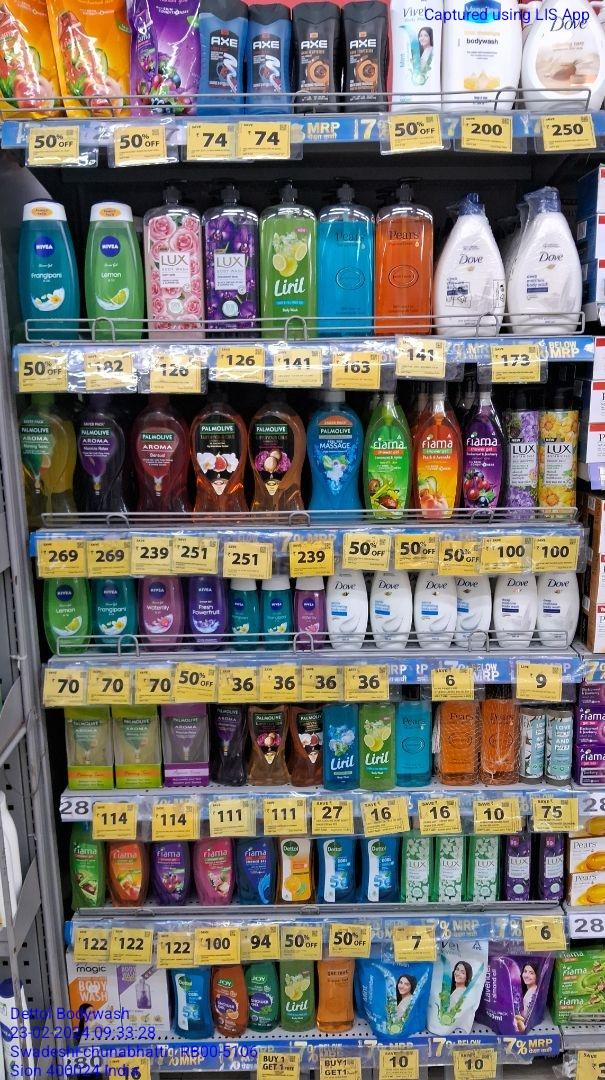Dettol_Bodywash_Cool: (317, 836, 359, 906), (173, 965, 212, 1040), (363, 835, 400, 905)
Dettol_Bodywash_Refresh: (278, 837, 313, 905)
Dove_Deep_Moisture_Body_Wash_250ML: (493, 570, 534, 649), (538, 570, 577, 647)
Dove_Gentle_Exfoliating_Body_Wash_250ML: (415, 568, 452, 650), (371, 572, 409, 650), (326, 573, 363, 651), (454, 576, 489, 649)
Fiama_Shower_Gel_Patchouli_and_Macadamia_250ML: (195, 839, 235, 906)
Fiama_Shower_Gel_Peach_and_Avocado_250ML: (107, 835, 147, 908)
Joy_Shower_Gel_Mandarin_and_Lemongrass_250ML: (212, 965, 249, 1037)
Joy_Shower_Gel_Mint_and_Eucalyptus_250ML: (250, 966, 277, 1032)
Liril_Cooling_Mint_Body_Wash_250ML: (325, 703, 359, 792)
Liril_Lime_and_Tea_Tree_Oil_Body_Wash_250ML: (359, 704, 397, 793), (280, 956, 315, 1031)
Lux_Body_Wash_Skin_Detox_Freesia_Scent_and_Alove_Vera_245ML: (469, 833, 500, 904), (433, 833, 462, 904), (539, 828, 565, 904), (401, 836, 430, 904), (505, 834, 530, 901)
Nivea_Shower_Gel_Frangipani_and_Oil_250ML: (19, 199, 79, 340), (95, 572, 136, 651)
Nivea_Shower_Gel_Fresh_Powerfruit_250ML: (187, 576, 228, 653)
Nivea_Shower_Gel_Lemon_and_Oil_250ML: (88, 201, 145, 340), (41, 574, 88, 653)
Nivea_Shower_Gel_Waterlily_and_Oil_250ML: (141, 573, 183, 651)
Palmolive_Aroma_Relax_250ML: (217, 706, 248, 788)
Palmolive_Luminous_Oils_Invigorating_Macadamia_Oil_With_Peony_250ML: (248, 702, 292, 786), (292, 704, 325, 788)
Pears_Pure_Glycerin_and_Mint_Extracts_Body_Wash_250ML: (399, 687, 432, 788)
